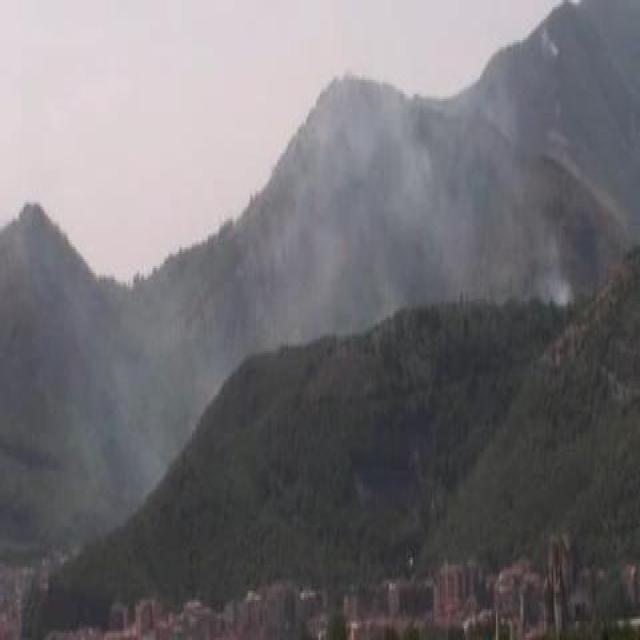Smoke: (292, 90, 512, 316)
